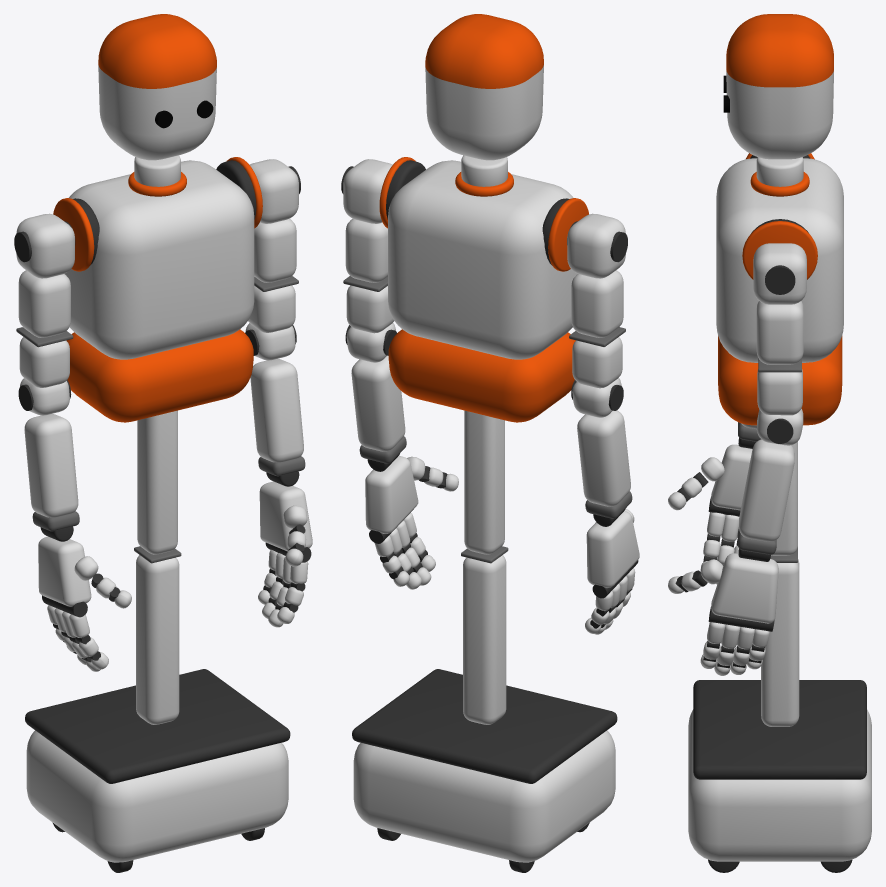
File: lab-robot.glb
3 views of the same model, side by side, from view 1: azimuth 30°, elevation 25°; view 2: azimuth 150°, elevation 25°; view 3: azimuth 270°, elevation 25° (orthographic).
Parts seen in each view (by area): view 1: torso_upper, base, base_top, head_shell, torso_lower, post_low, post_high, R_forearm, L_forearm, R_upper_arm, R_palm_shell, R_shoulder_block (+13 smaller); view 2: torso_upper, base, base_top, head_shell, torso_lower, post_low, post_high, R_forearm, L_forearm, L_palm_shell, R_upper_arm, R_palm_shell (+12 smaller); view 3: base_top, base, torso_upper, head_shell, post_low, torso_lower, L_forearm, L_palm_shell, L_upper_arm, L_shoulder_block, L_shoulder_ring, L_upper_arm2 (+12 smaller).
Boxes of the visible parts, x1,y1,x2,y2 form: torso_upper: (64,160,254,359); base: (26,730,288,862); base_top: (25,669,290,783); head_shell: (98,14,216,160); torso_lower: (66,329,253,422); post_low: (136,555,179,724); post_high: (137,410,177,554); R_forearm: (24,414,78,517); L_forearm: (250,358,303,462); R_upper_arm: (18,270,70,337); R_palm_shell: (38,536,91,606); R_shoulder_block: (16,213,74,278); torso_upper: (388,160,577,359); base: (353,730,615,862); base_top: (352,669,617,783); head_shell: (425,14,543,160); torso_lower: (388,329,575,422); post_low: (463,555,506,724); post_high: (464,410,504,554); R_forearm: (577,410,630,506); L_forearm: (351,355,405,451); L_palm_shell: (365,455,418,533); R_upper_arm: (571,270,623,337); R_palm_shell: (586,511,639,587); base_top: (693,680,866,779); base: (688,709,871,861); torso_upper: (716,158,843,362); head_shell: (726,14,833,159); post_low: (761,559,799,726); torso_lower: (718,336,842,425); L_forearm: (739,439,794,541); L_palm_shell: (711,553,778,623); L_upper_arm: (756,301,803,364); L_shoulder_block: (753,243,806,304); L_shoulder_ring: (742,221,817,279); L_upper_arm2: (757,369,802,415).
Size of the model in its own units: 0.619 by 1.76 by 0.3999.
